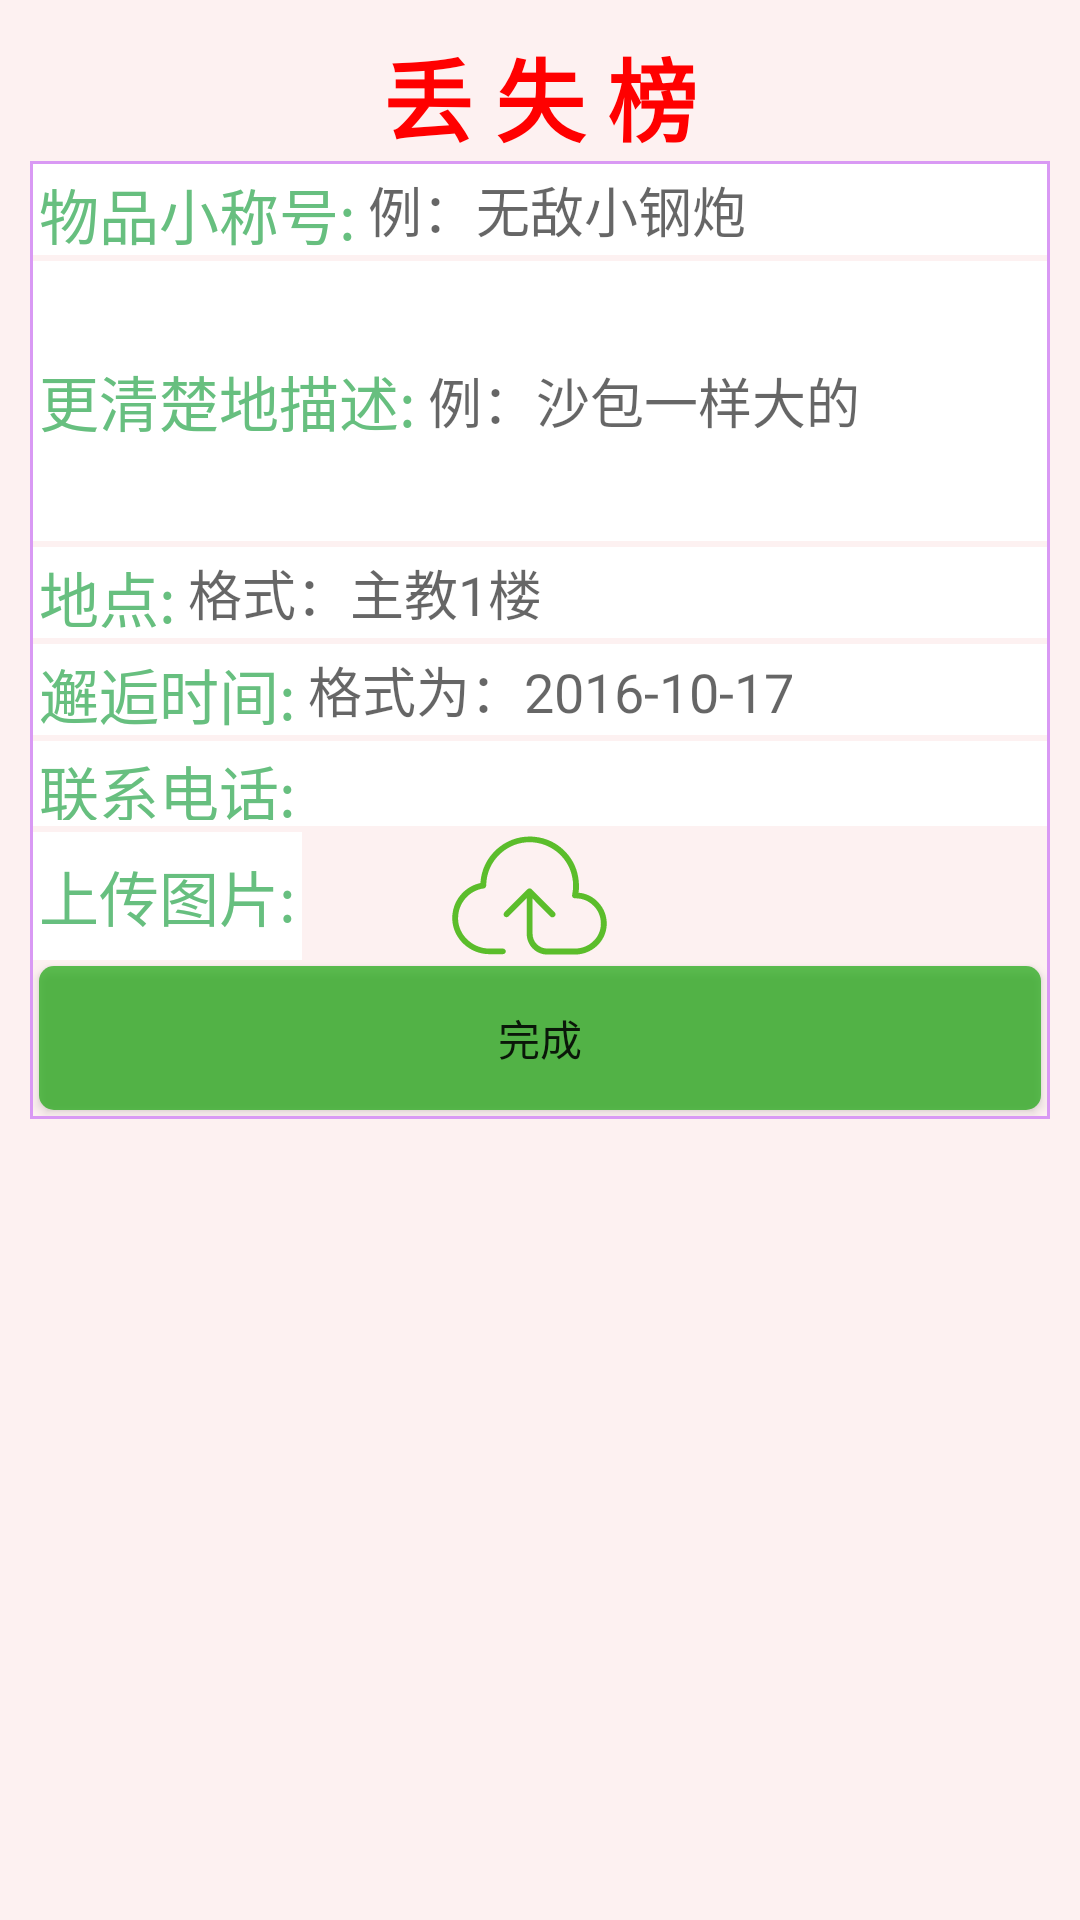

Named icons in this screenshot (1080x1920) and their bounding boxes, (x1, y1, x2, y2):
uploadimage: (452, 836, 607, 955)
